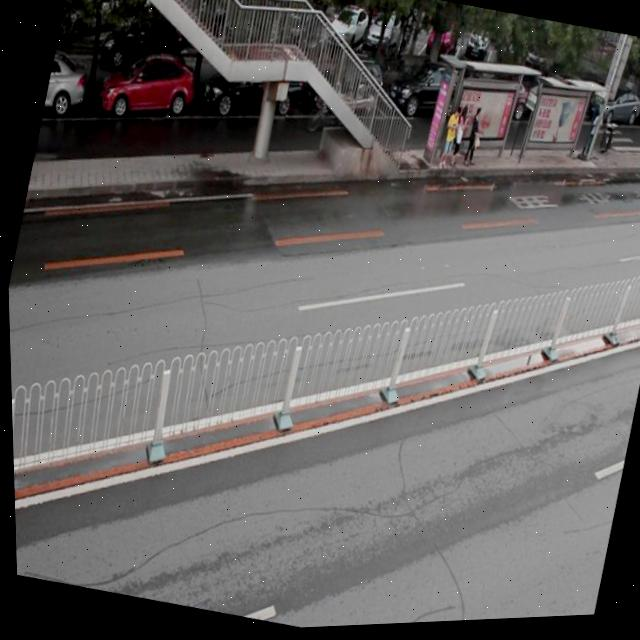car: (199, 37, 310, 132), (92, 40, 201, 134), (302, 51, 387, 130), (388, 55, 474, 133), (39, 50, 92, 125)
